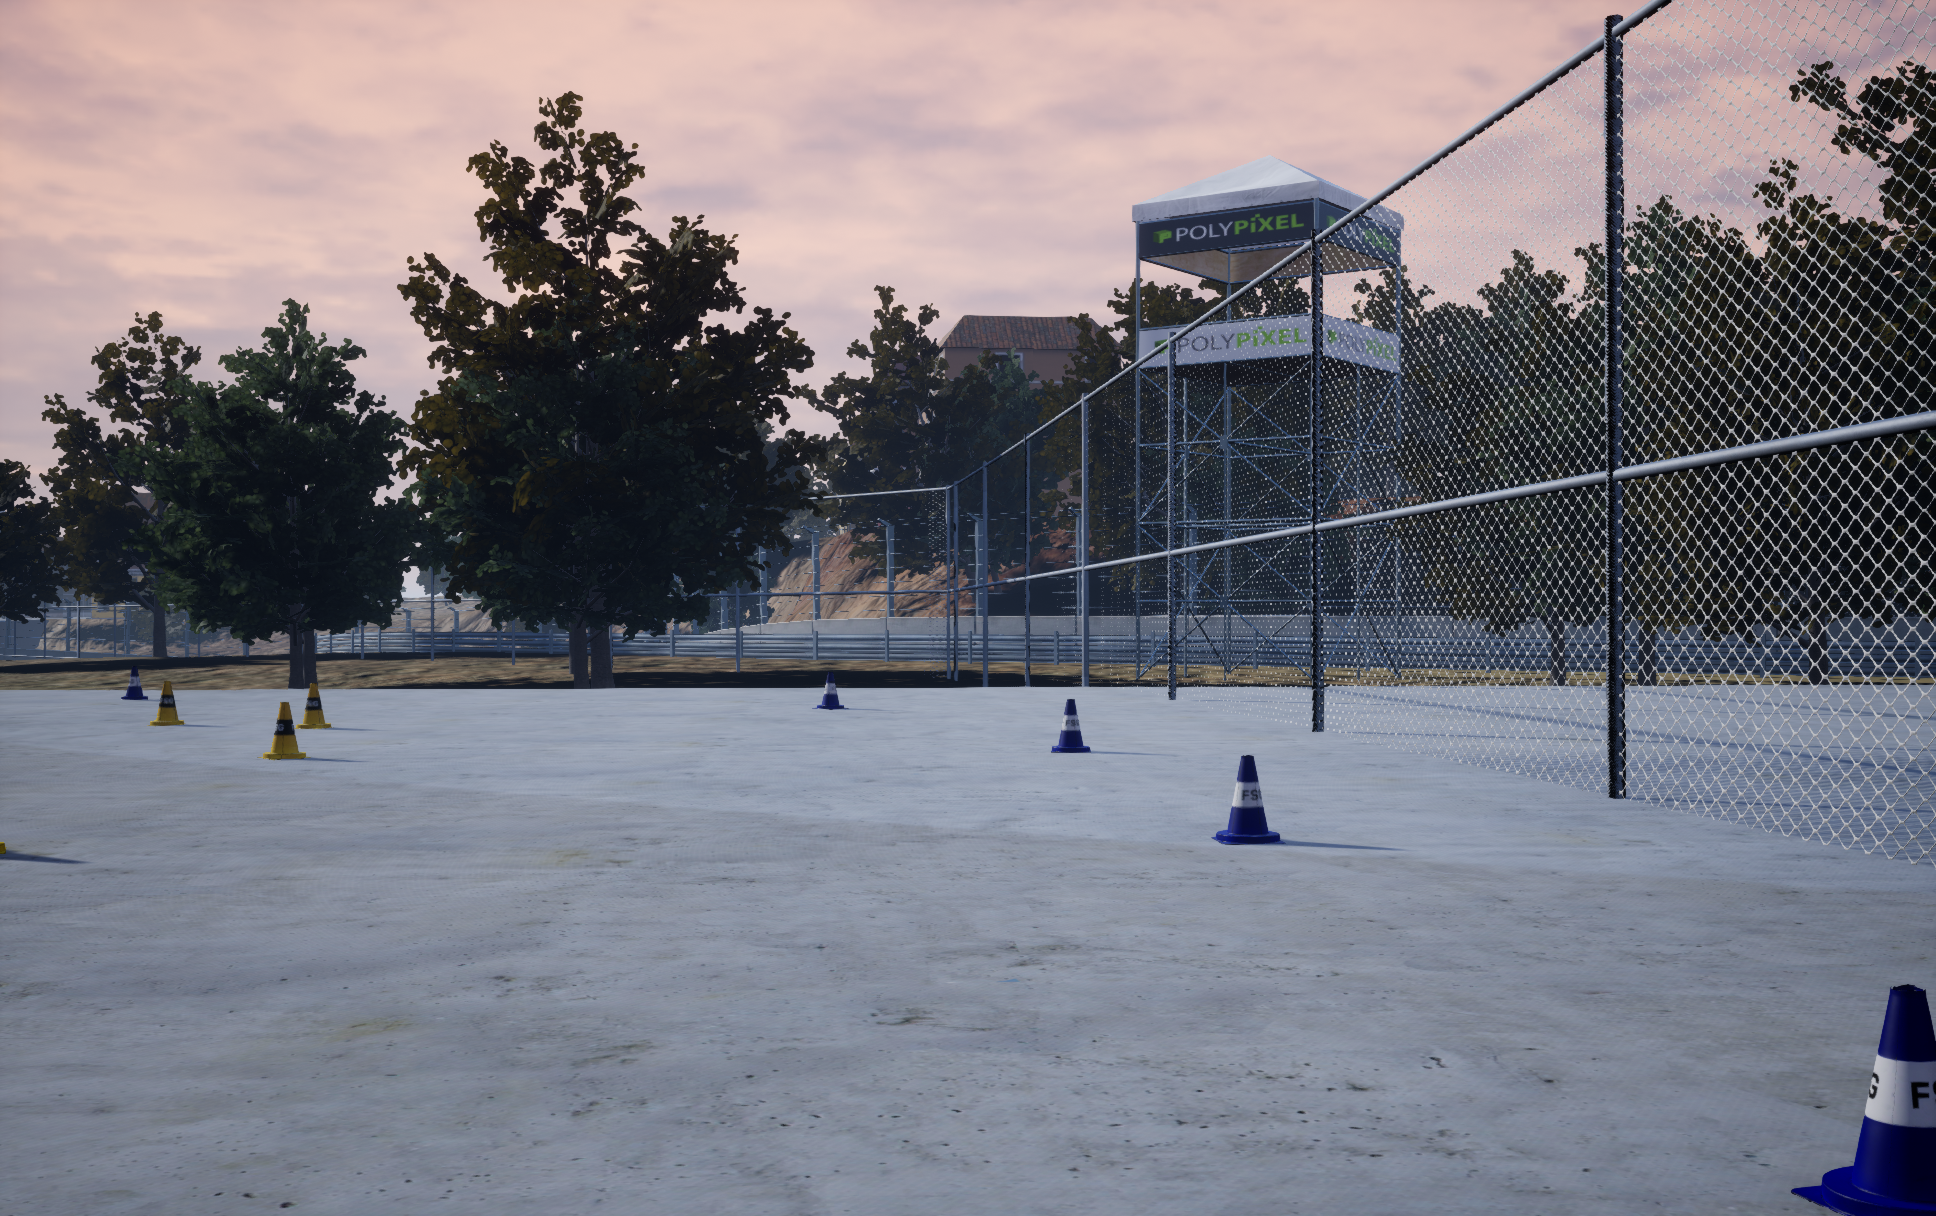blue: (256, 702, 310, 759), (294, 684, 333, 728), (147, 681, 185, 726)
yellow: (1790, 983, 1935, 1215), (1210, 755, 1285, 843), (1051, 699, 1090, 752), (813, 672, 848, 709), (120, 665, 147, 699)
